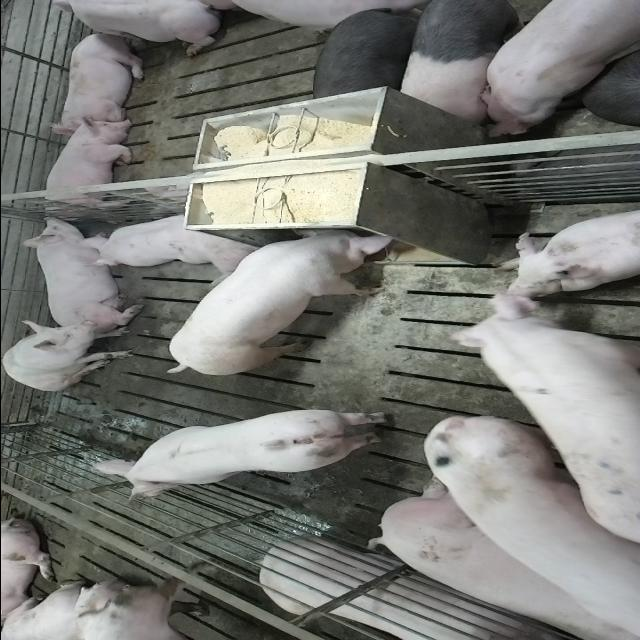Feeding: (166, 218, 400, 370)
Lateral_lying: (258, 537, 580, 640)
Sitting: (3, 320, 137, 391)
Standing: (392, 406, 640, 636), (448, 278, 640, 540), (92, 406, 396, 502), (474, 2, 640, 138), (396, 2, 552, 128), (306, 3, 428, 104)
Sternal_lying: (12, 214, 138, 326), (494, 204, 640, 294), (79, 209, 257, 271), (36, 116, 138, 216), (34, 3, 226, 55), (52, 30, 150, 130)
